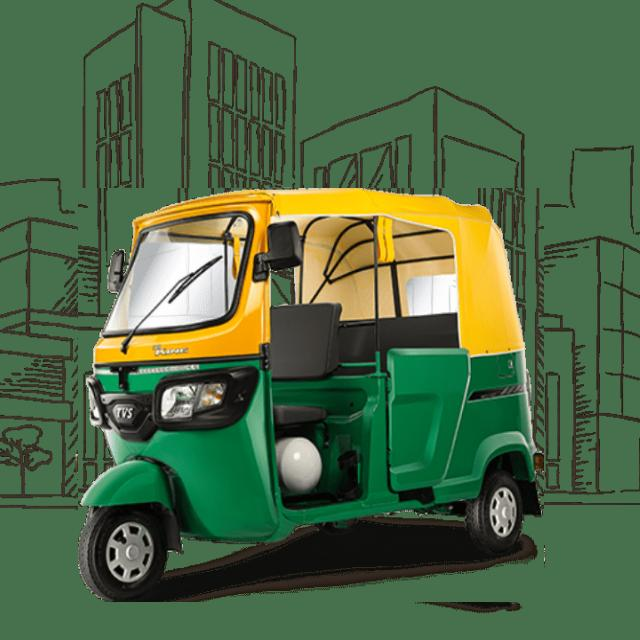autorickshaw: (78, 188, 544, 602)
